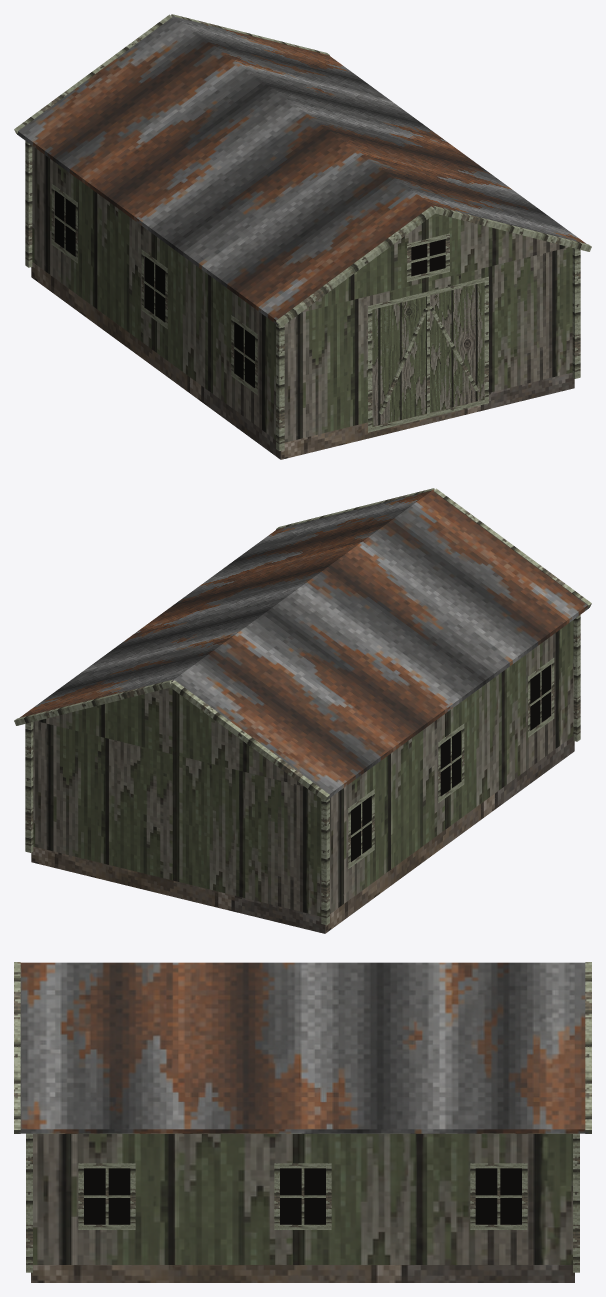
The model's file is Rimessa_02_Rurale_Salvia.obj.
3 views of the same model, one above another, from view 1: azimuth 30°, elevation 25°; view 2: azimuth 150°, elevation 25°; view 3: azimuth 270°, elevation 25° (orthographic). The views are drawn at different scales.
Visible parts, largest first — view 1: Rimessa_02_Rurale_Salvia; view 2: Rimessa_02_Rurale_Salvia; view 3: Rimessa_02_Rurale_Salvia.
Part boxes in pixels (x1=…): Rimessa_02_Rurale_Salvia: x1=14, y1=14, x2=591, y2=459; Rimessa_02_Rurale_Salvia: x1=14, y1=488, x2=591, y2=933; Rimessa_02_Rurale_Salvia: x1=14, y1=962, x2=591, y2=1282.
Bounding box in the file's own units: 7.25 × 4.91 × 10.62.
